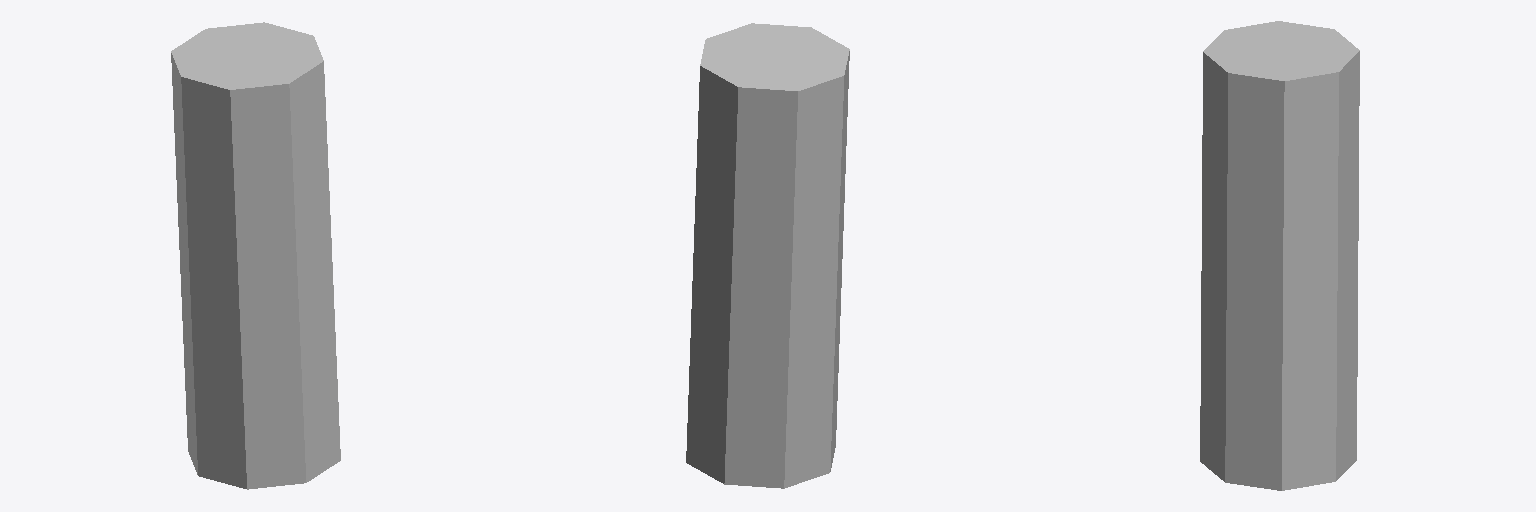
Rendered from pineTrump.obj.
3 renders of one model, left to right at view 1: azimuth 30°, elevation 25°; view 2: azimuth 150°, elevation 25°; view 3: azimuth 270°, elevation 25°, orthographic.
Parts seen in each view (by area): view 1: SapinHiver.015_Cylinder.034; view 2: SapinHiver.015_Cylinder.034; view 3: SapinHiver.015_Cylinder.034.
Boxes of the visible parts, <box> form: SapinHiver.015_Cylinder.034: <box>171,22,340,489</box>; SapinHiver.015_Cylinder.034: <box>686,23,849,488</box>; SapinHiver.015_Cylinder.034: <box>1200,21,1359,490</box>.
Bounding box in the file's own units: 0.4964 × 1.28 × 0.4544.